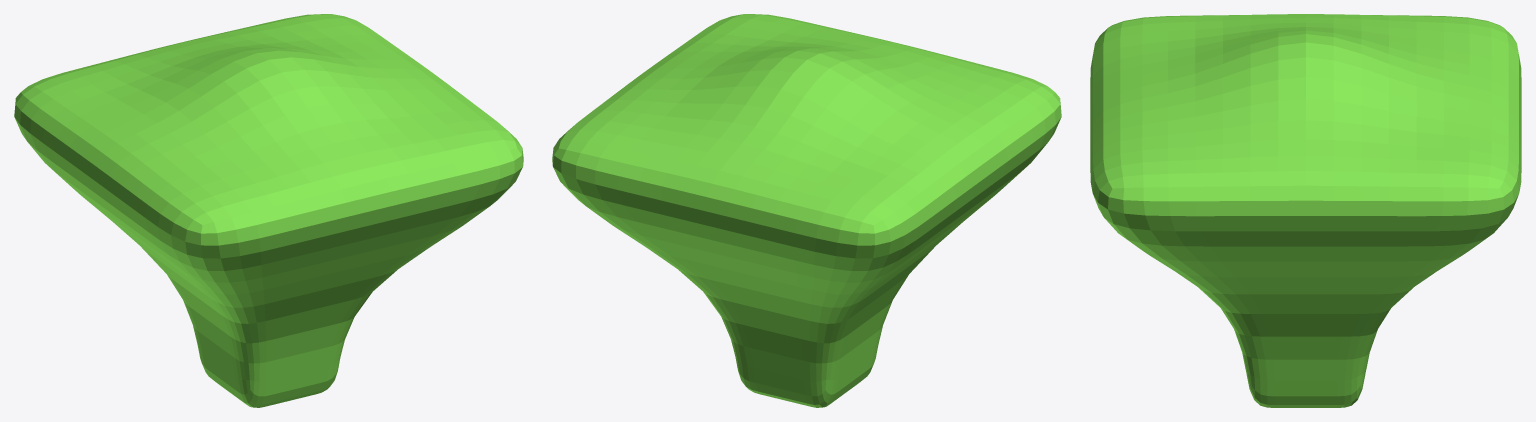
File: tower-2.gltf
3 renders of one model, left to right at view 1: azimuth 30°, elevation 25°; view 2: azimuth 150°, elevation 25°; view 3: azimuth 270°, elevation 25°, orthographic. The views are drawn at different scales.
Visible parts, largest first — view 1: Cube; view 2: Cube; view 3: Cube.
Boxes of the visible parts, x1=… form: Cube: x1=14, y1=14, x2=523, y2=407; Cube: x1=552, y1=14, x2=1061, y2=407; Cube: x1=1090, y1=14, x2=1521, y2=407.
Size of the model in its own units: 6.97 by 6.22 by 6.97.
